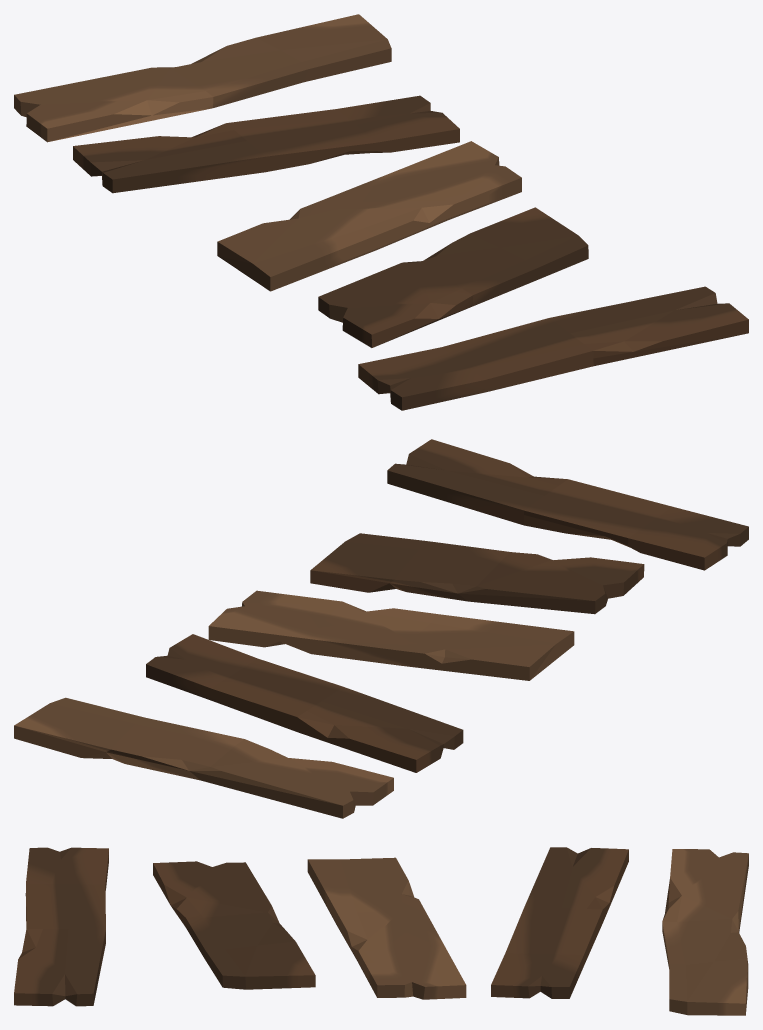
File: bog_planks.gltf
3 renders of one model, top to bottom at view 1: azimuth 30°, elevation 25°; view 2: azimuth 150°, elevation 25°; view 3: azimuth 270°, elevation 25°, orthographic. The views are drawn at different scales.
Parts seen in each view (by area): view 1: bog_planks; view 2: bog_planks; view 3: bog_planks.
Boxes of the visible parts, <box> form: bog_planks: <box>14,14,748,410</box>; bog_planks: <box>14,439,748,818</box>; bog_planks: <box>14,847,748,1015</box>.
Bounding box in the file's own units: 2.52 × 0.1239 × 5.
Materials: 1 (1 with a texture image).
